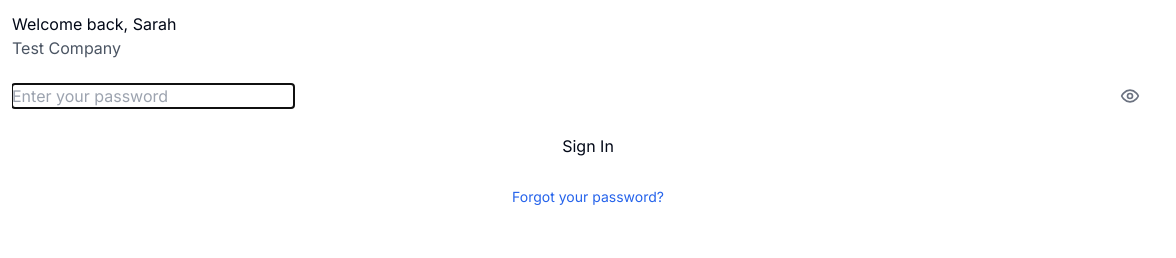
Test: LoginForm › error handling › should handle specific invitation error messages
Type "TestPassword123" into the password field with placeholder "Enter your password". click: coordinates (153, 96)
box: [12,84,294,108]
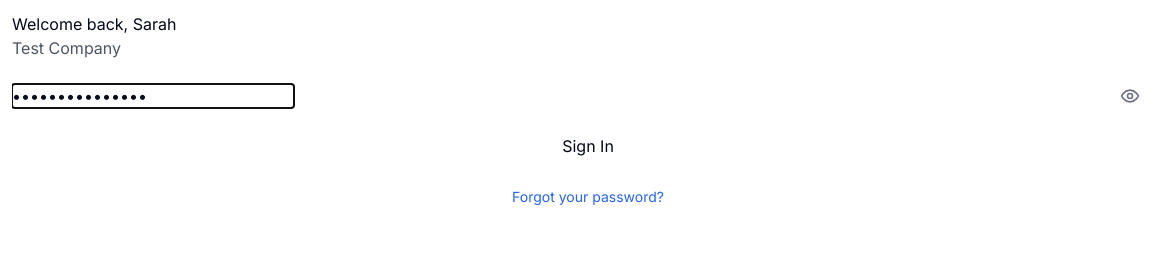
Click the button "Sign In". click: coordinates (588, 146)
box: [12,124,1164,168]
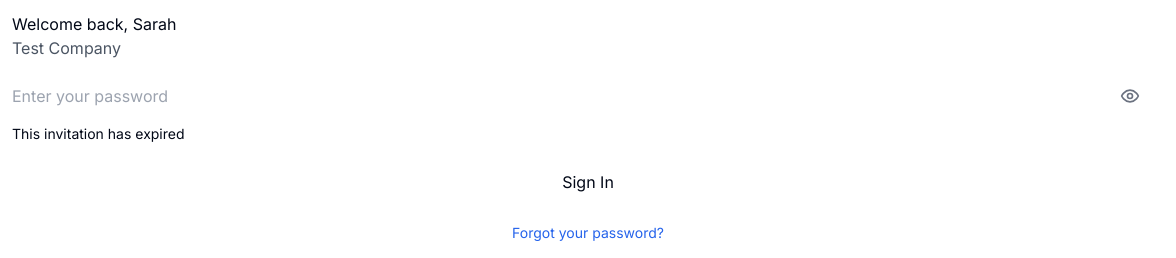
Check: the message with test id "login-error" reads "This invitation has expired", box [12,125,184,142]
